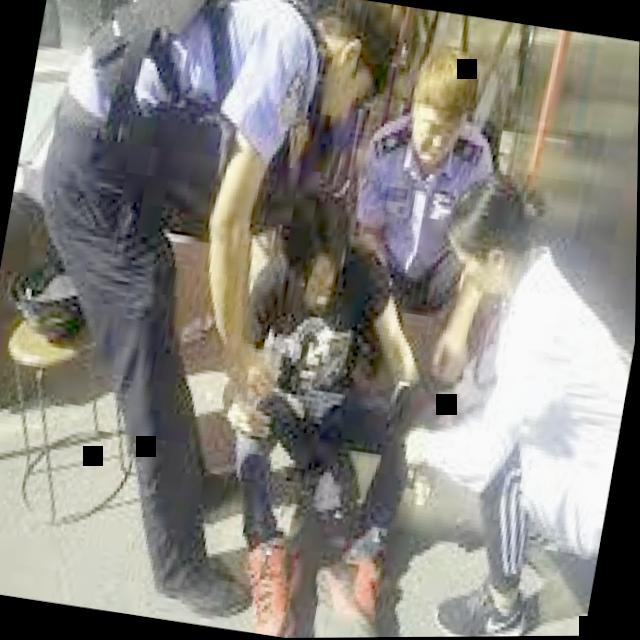Fall-Detected: (167, 146, 494, 639)
